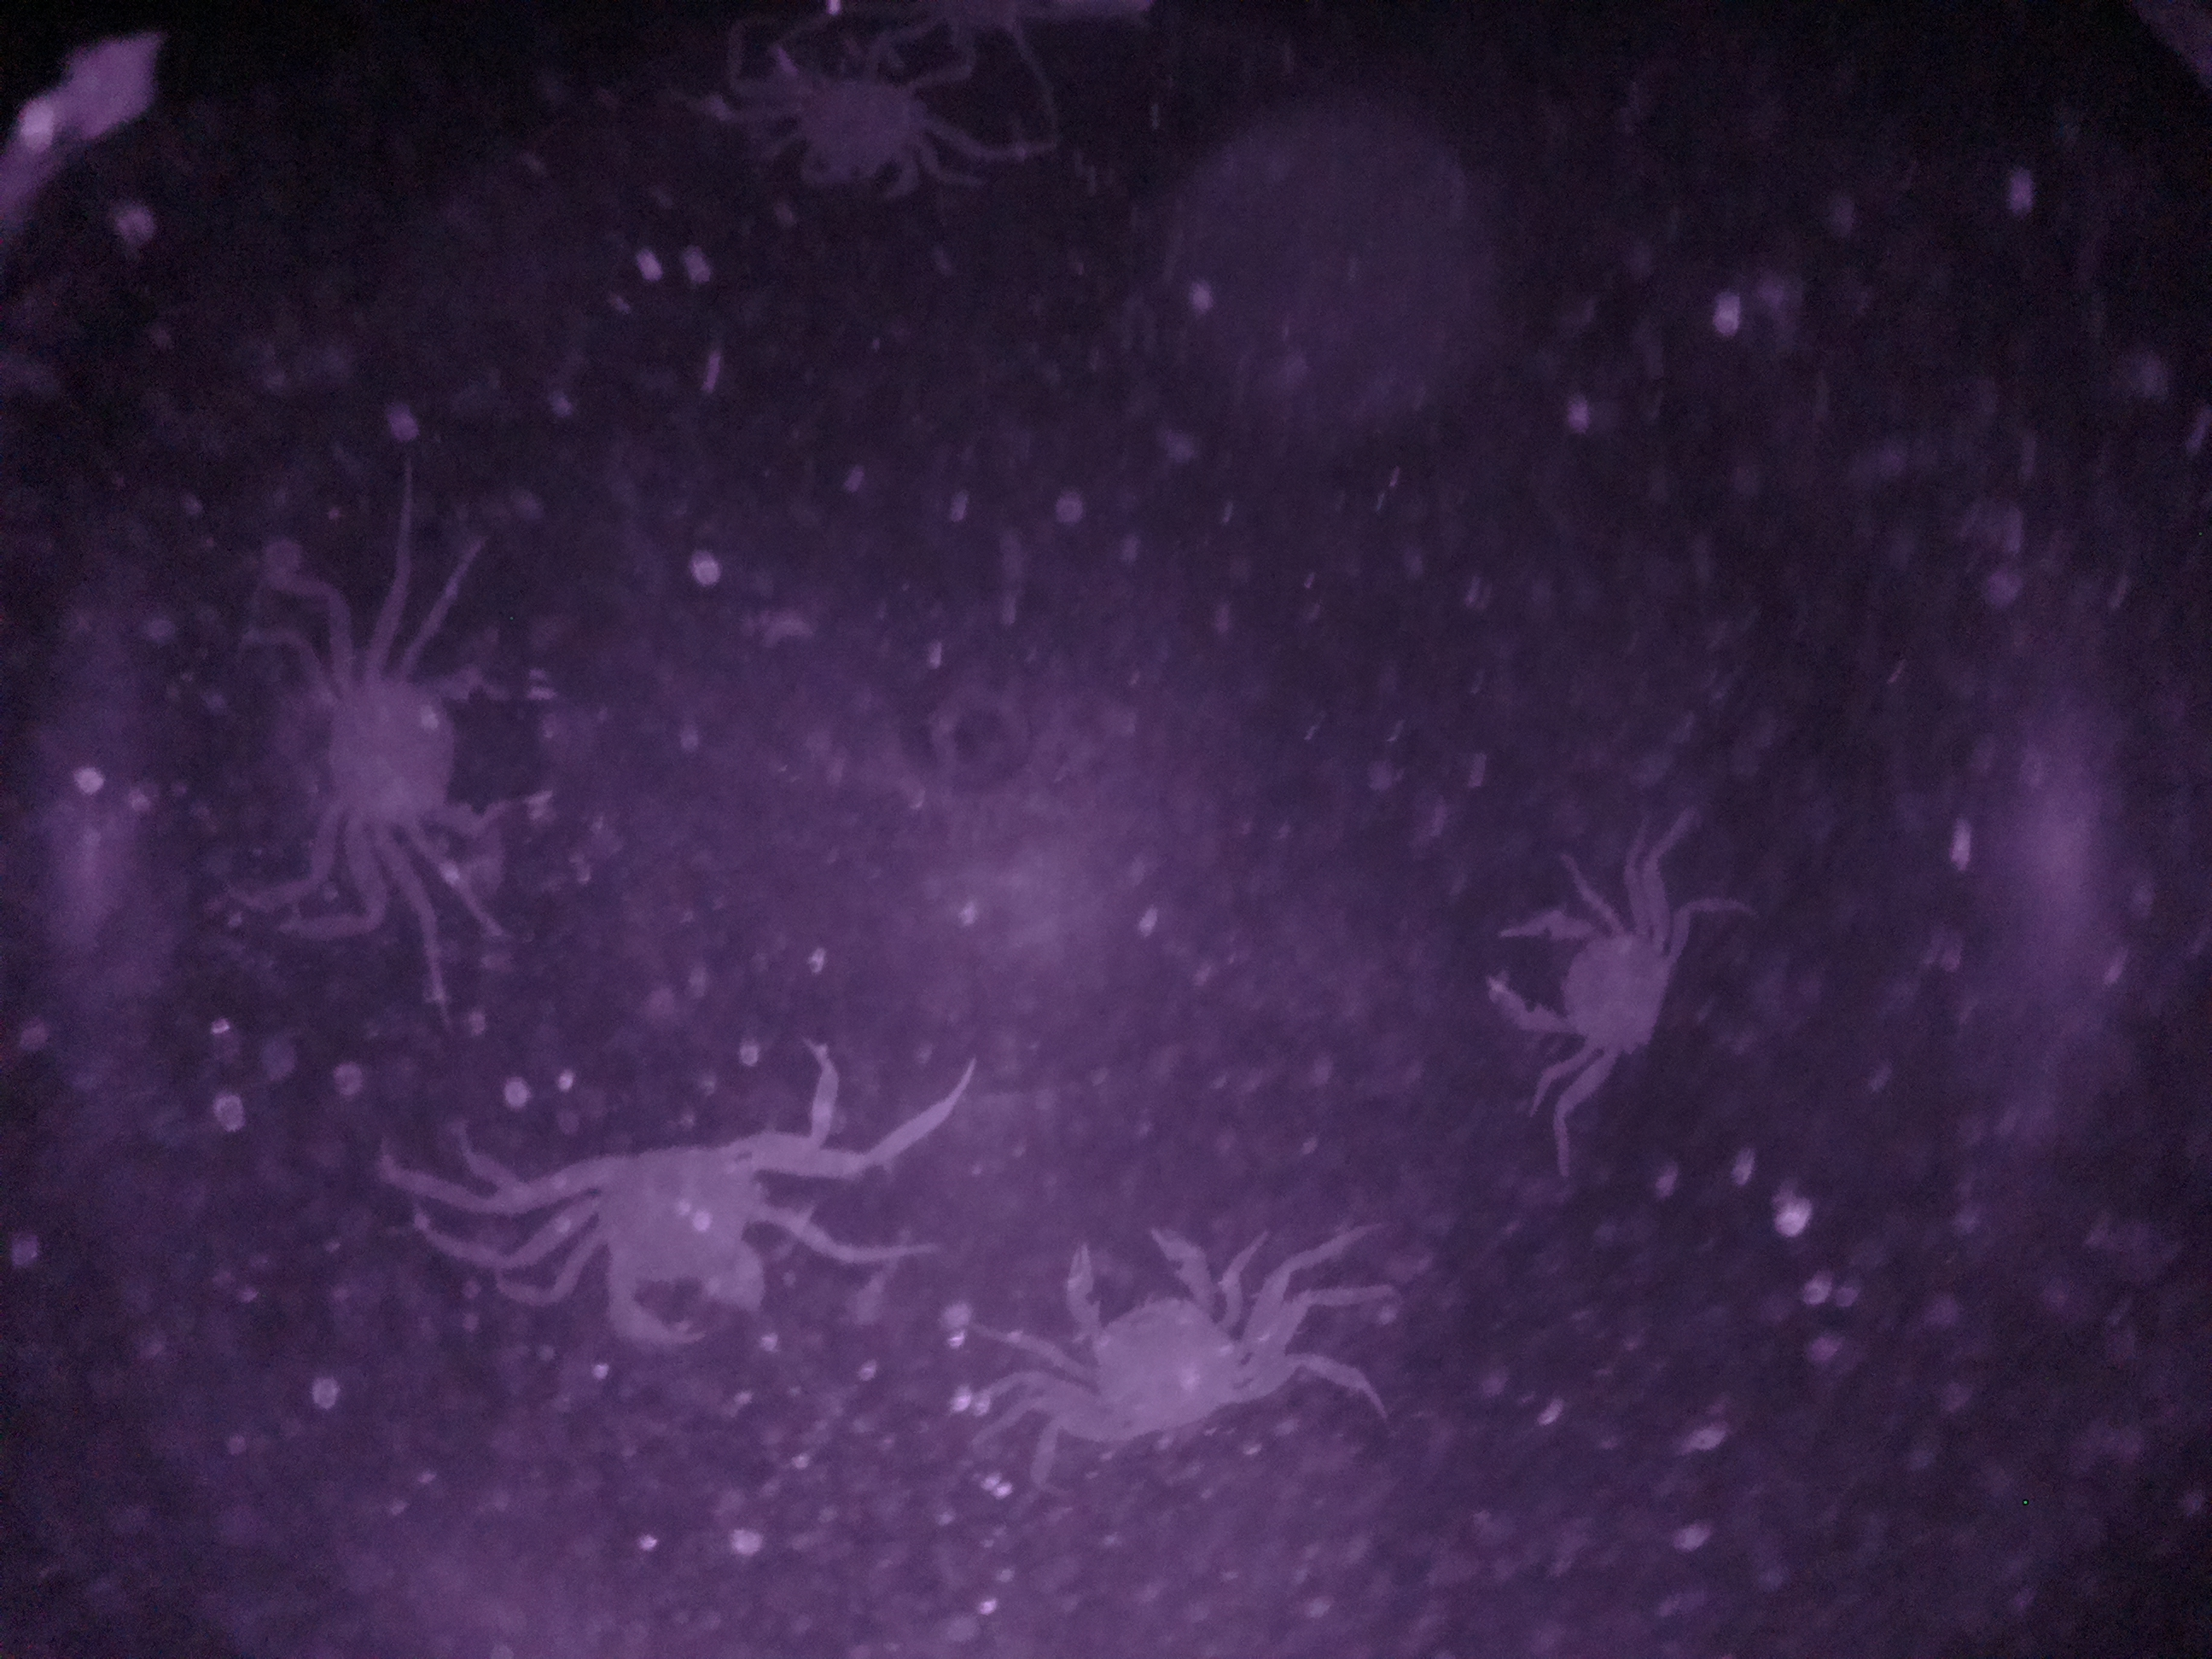Crab: (272, 636, 643, 866), (535, 1100, 799, 1364), (1012, 1227, 1289, 1453), (1465, 890, 1714, 1080), (749, 61, 965, 209)
